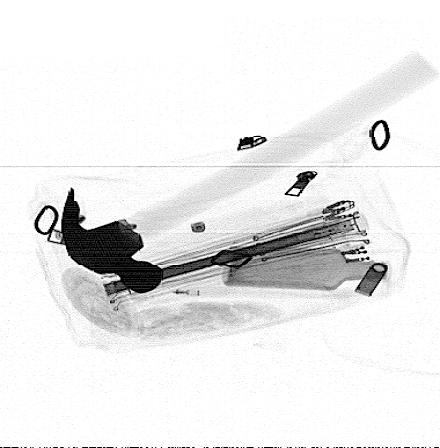Hammer: (60, 51, 439, 295)
